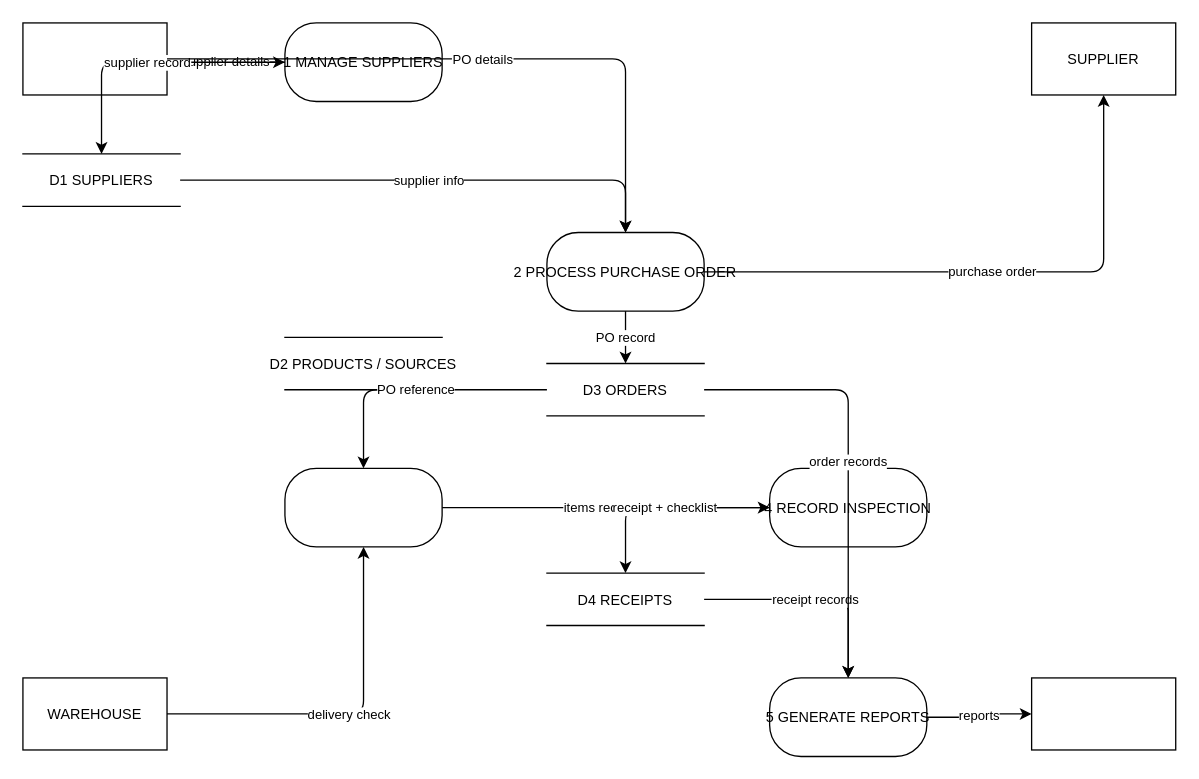
Image size: 1199x779. Some labels were removed from this diagram. Each missing label, with the centre of its shape:
3 RECEIVE DELIVERY: (363,507)
MANAGEMENT: (1103,713)
PROCUREMENT: (94,58)
